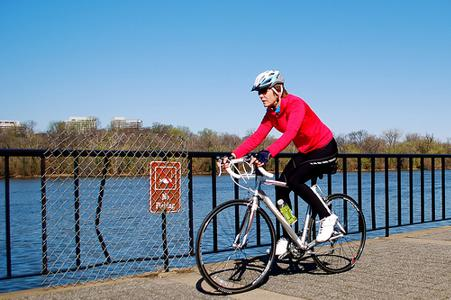person: (217, 71, 341, 259)
